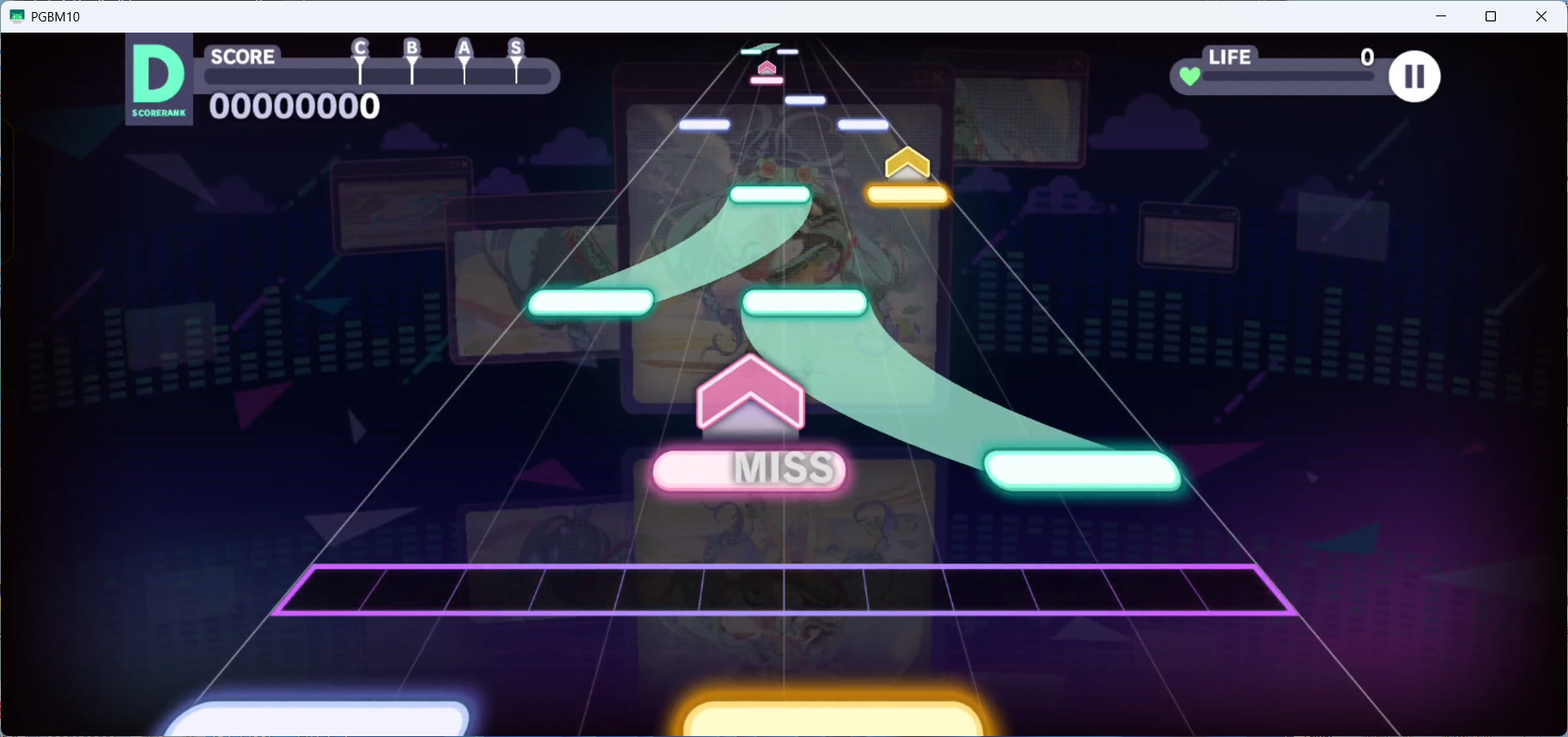flick: (696, 353, 804, 443), (885, 145, 930, 184), (758, 59, 776, 76)
hold: (740, 317, 1113, 451), (571, 204, 811, 291), (748, 43, 780, 49)
tap: (161, 700, 470, 737), (684, 700, 987, 737), (652, 450, 848, 494), (984, 450, 1180, 494), (740, 289, 869, 317), (526, 290, 655, 317), (729, 184, 811, 204), (867, 184, 948, 202), (679, 118, 730, 132), (838, 119, 890, 130), (784, 95, 826, 106), (749, 76, 784, 84), (776, 49, 799, 55), (740, 49, 762, 54)
